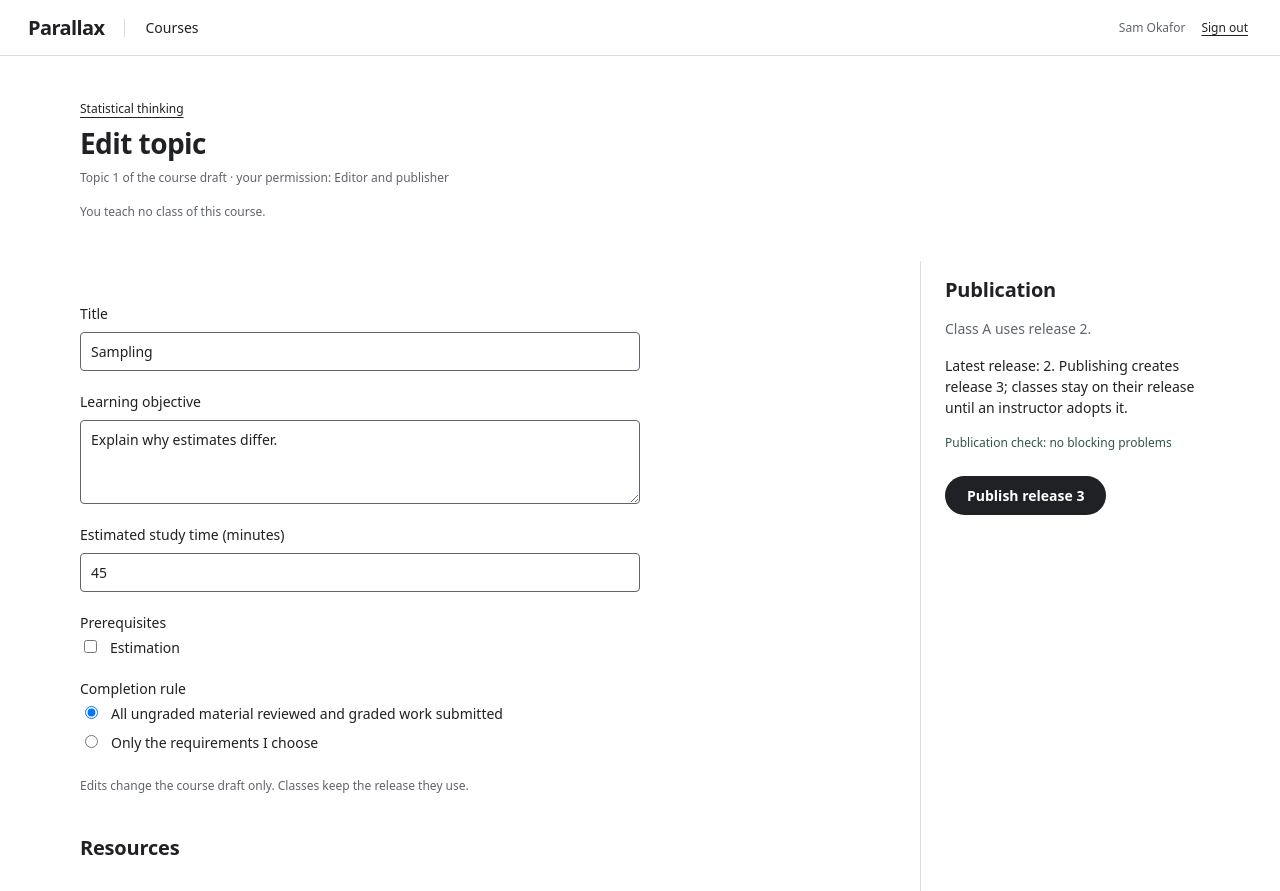
Test case: topic editor › A26 a stale revision shows both versions and keeps the choice with the editor
Check: the heading "Edit topic" is shown, box [80,124,206,162]
Replace the text in the field labelled "Title" with "My title" at (360, 352), box [80,332,640,371]
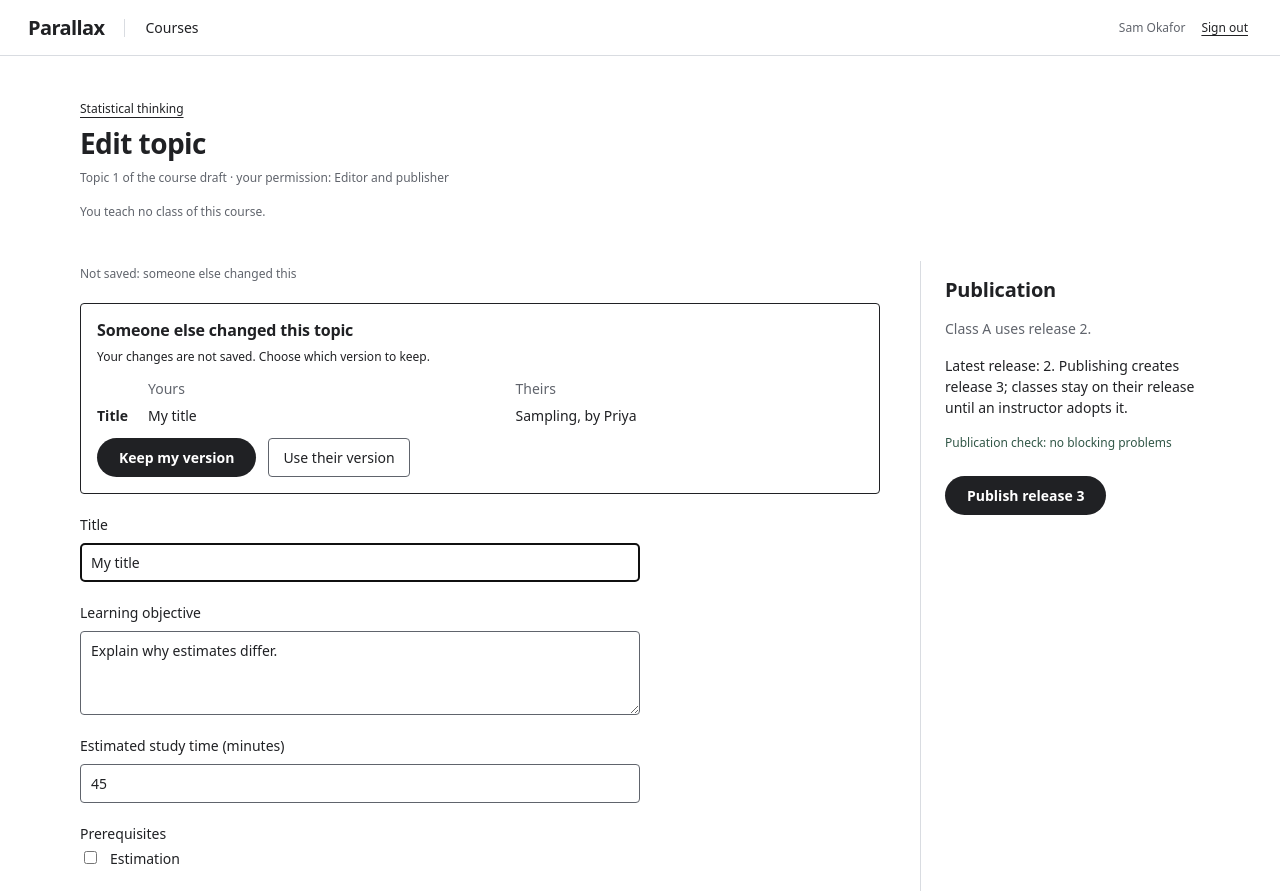
Check: the text "My title" is shown, box [148,406,197,425]
Check: the text "Sampling, by Priya" is shown, box [516,406,637,425]
Click the button "Keep my version" at (177, 458), box [97,438,256,477]
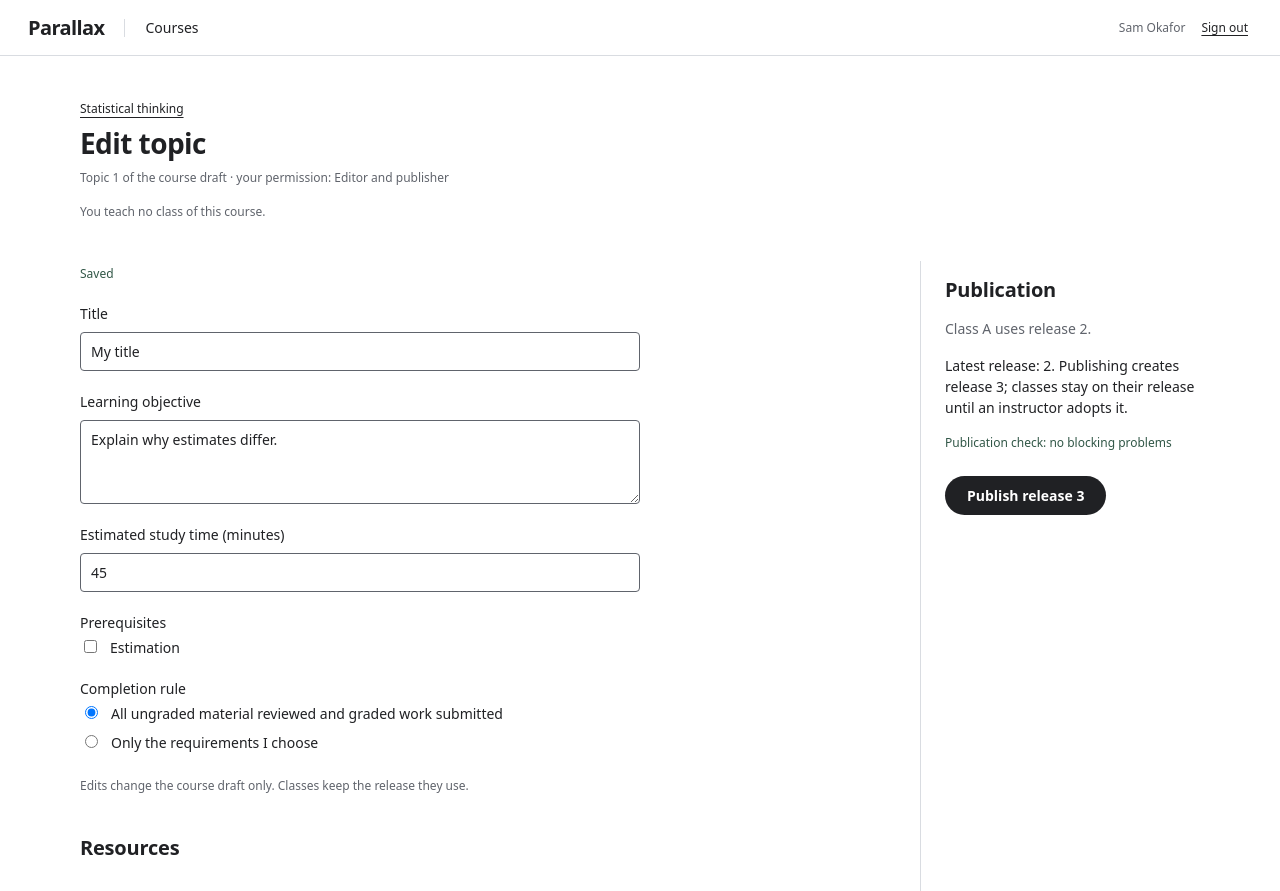
Check: the text "Saved" is shown, box [80,265,114,282]
